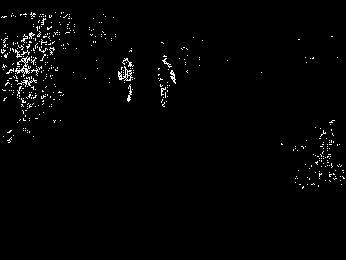person: (155, 54, 177, 109), (116, 55, 136, 104)
